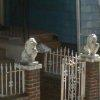Statue: (16, 33, 42, 68)
